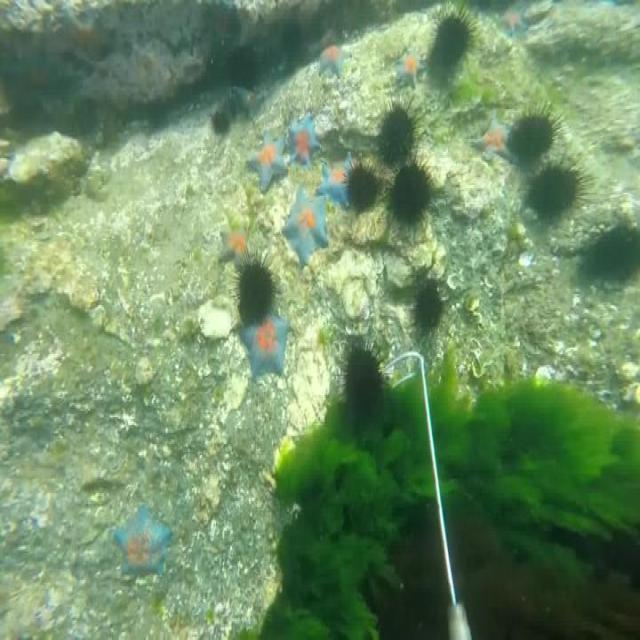echinus: (526, 156, 590, 220), (230, 242, 278, 324), (428, 0, 474, 76), (339, 340, 383, 417), (388, 155, 434, 226), (510, 104, 562, 163), (592, 218, 640, 275), (378, 100, 416, 168), (340, 158, 377, 215), (415, 283, 445, 327), (229, 49, 257, 92), (210, 112, 232, 133)
starfish: (113, 511, 168, 586), (239, 308, 294, 379), (286, 186, 332, 268), (243, 128, 290, 190), (473, 120, 514, 161), (287, 112, 315, 163), (316, 165, 356, 198), (320, 44, 347, 74)
